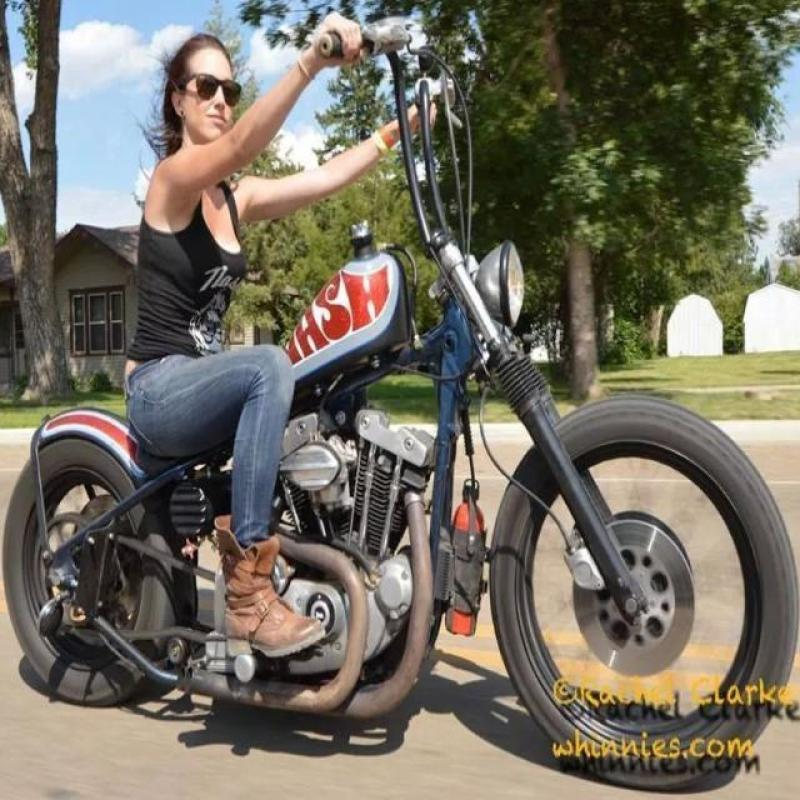nohelmet: (164, 38, 245, 152)
